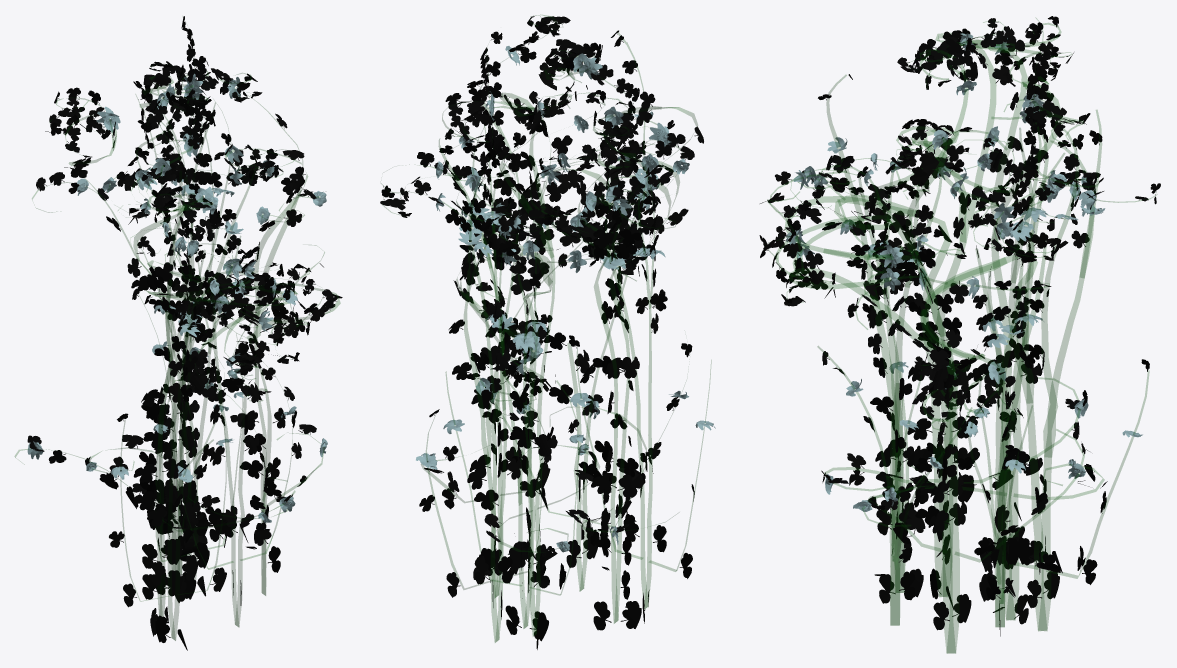
Rendered from FloweringPea.fbx.
The picture shows the model from 3 angles, left to right: view 1: azimuth 30°, elevation 25°; view 2: azimuth 150°, elevation 25°; view 3: azimuth 270°, elevation 25°; orthographic projection. The views are drawn at different scales.
Parts seen in each view (by area): view 1: floweringPea1Leaf, floweringPea1Main, floweringPea1Flower; view 2: floweringPea1Leaf, floweringPea1Main, floweringPea1Flower; view 3: floweringPea1Leaf, floweringPea1Main, floweringPea1Flower.
Part boxes in pixels (left/top/right/bottom): floweringPea1Leaf: left=27, top=16, right=342, bottom=650; floweringPea1Main: left=15, top=63, right=340, bottom=640; floweringPea1Flower: left=27, top=73, right=327, bottom=522; floweringPea1Leaf: left=380, top=16, right=703, bottom=649; floweringPea1Main: left=381, top=15, right=711, bottom=642; floweringPea1Flower: left=416, top=46, right=715, bottom=552; floweringPea1Leaf: left=759, top=16, right=1160, bottom=636; floweringPea1Main: left=765, top=18, right=1155, bottom=653; floweringPea1Flower: left=786, top=33, right=1142, bottom=511.
Size of the model in its own units: 186 by 374 by 219.
